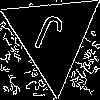J: (27, 12, 66, 64)
